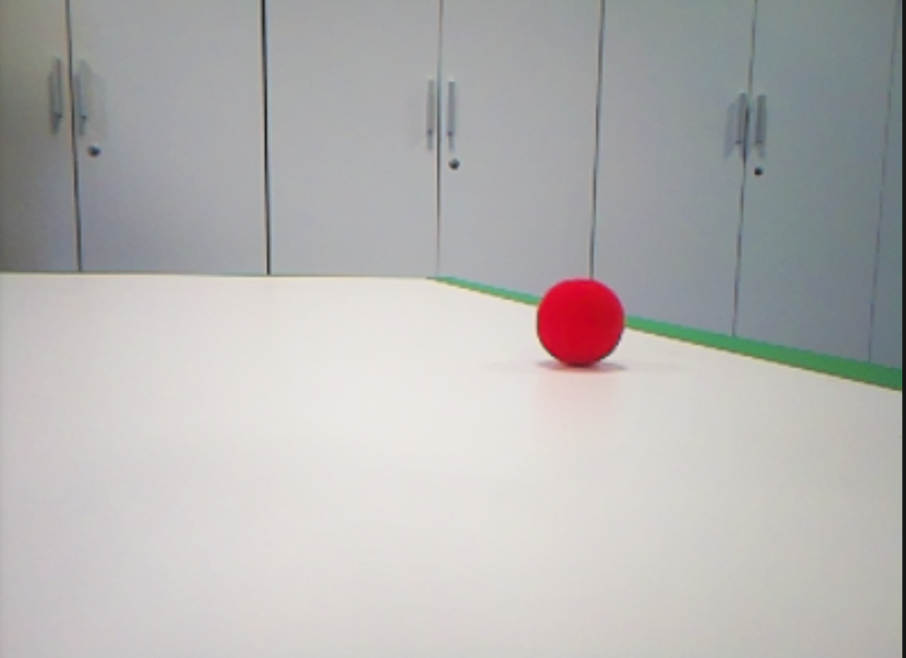bola_cerca: (534, 276, 623, 370)
